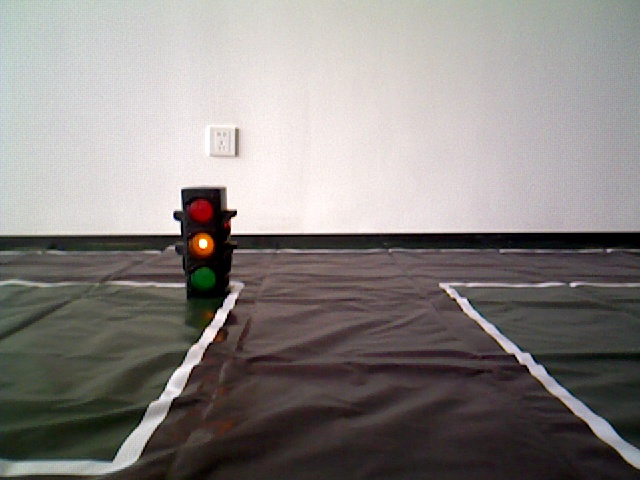yellow: (179, 185, 233, 293)
